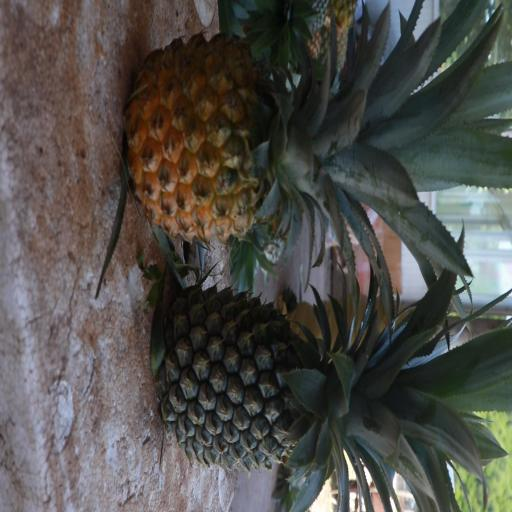Pineapple - v8 v1: (124, 42, 444, 245)
